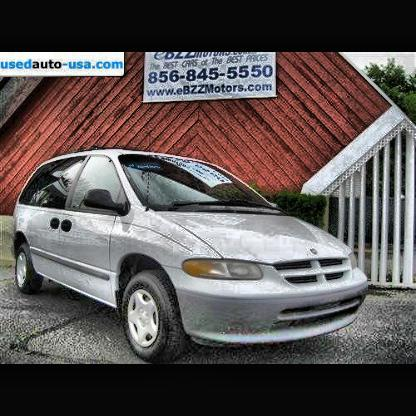Dodge Caravan Minivan 1997: (14, 150, 371, 357)
